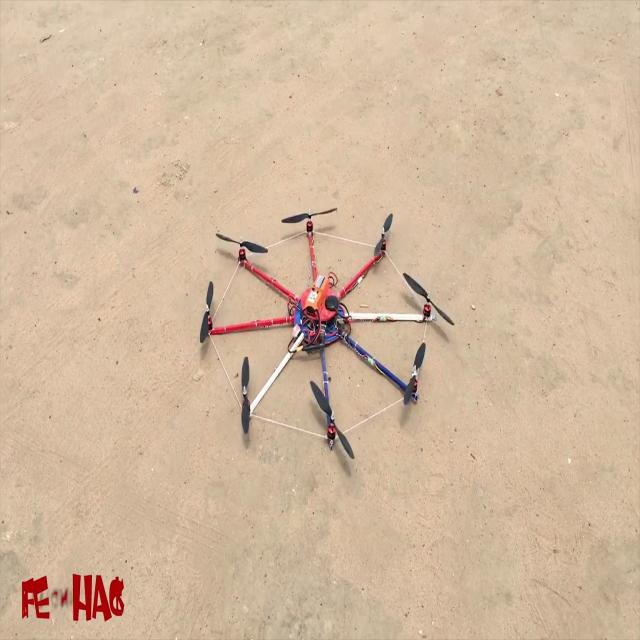drone: (162, 194, 452, 483)
